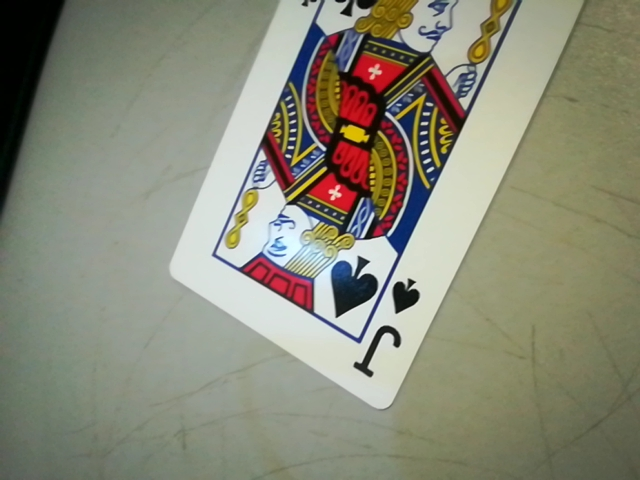ht j: (357, 263, 419, 391)
